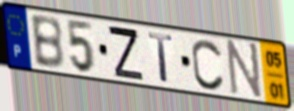5: (64, 17, 99, 75)
B: (28, 15, 66, 72)
C: (190, 37, 227, 93)
N: (225, 38, 263, 103)
T: (146, 31, 176, 85)
Z: (105, 23, 146, 83)
